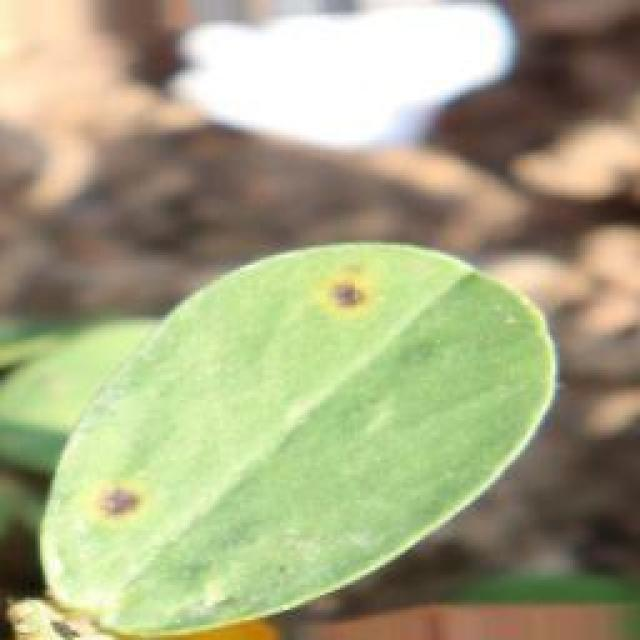Sigatoka: (284, 257, 392, 350), (78, 467, 182, 543)
